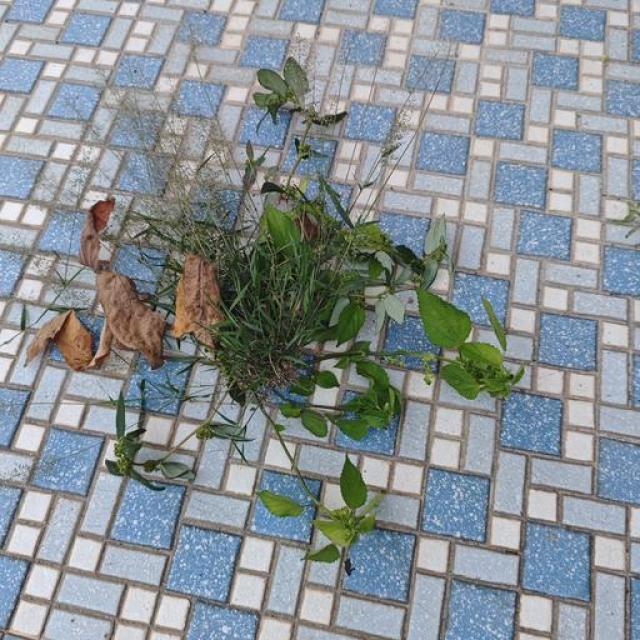organic: (135, 58, 523, 562), (418, 290, 471, 347), (264, 205, 299, 249), (440, 363, 479, 399), (340, 457, 367, 508), (483, 298, 507, 351), (337, 302, 366, 344), (258, 490, 303, 517), (314, 520, 356, 546), (459, 343, 502, 367), (284, 58, 309, 99), (258, 69, 288, 96), (300, 409, 327, 437), (305, 544, 339, 562), (115, 392, 126, 438)
